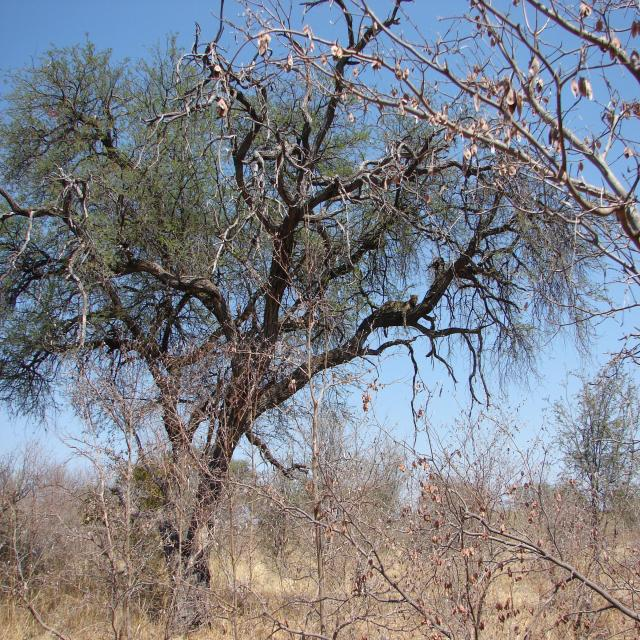Leopard: (365, 290, 421, 343)
